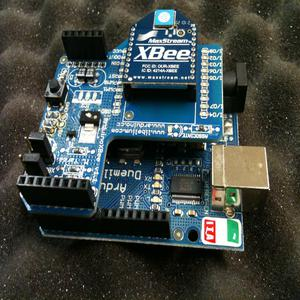duino: (14, 6, 272, 258)
